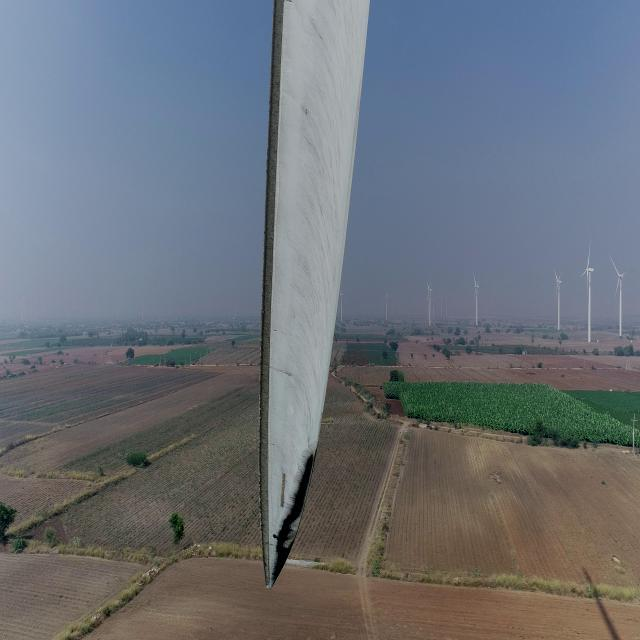Dirt: (262, 4, 352, 550)
Oil LEAKAGE: (271, 448, 323, 590)
